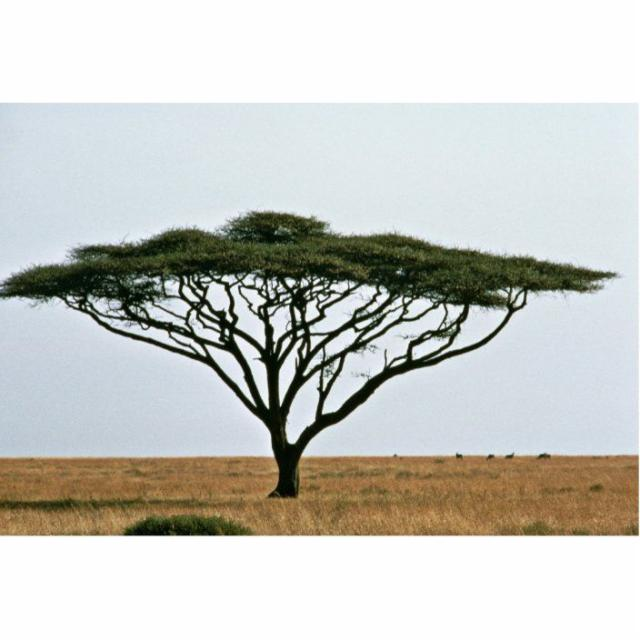Acacia: (33, 217, 590, 490)
